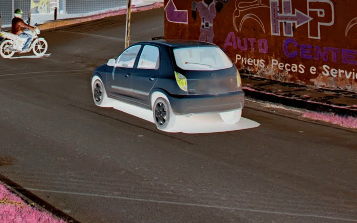car: (88, 34, 246, 140)
